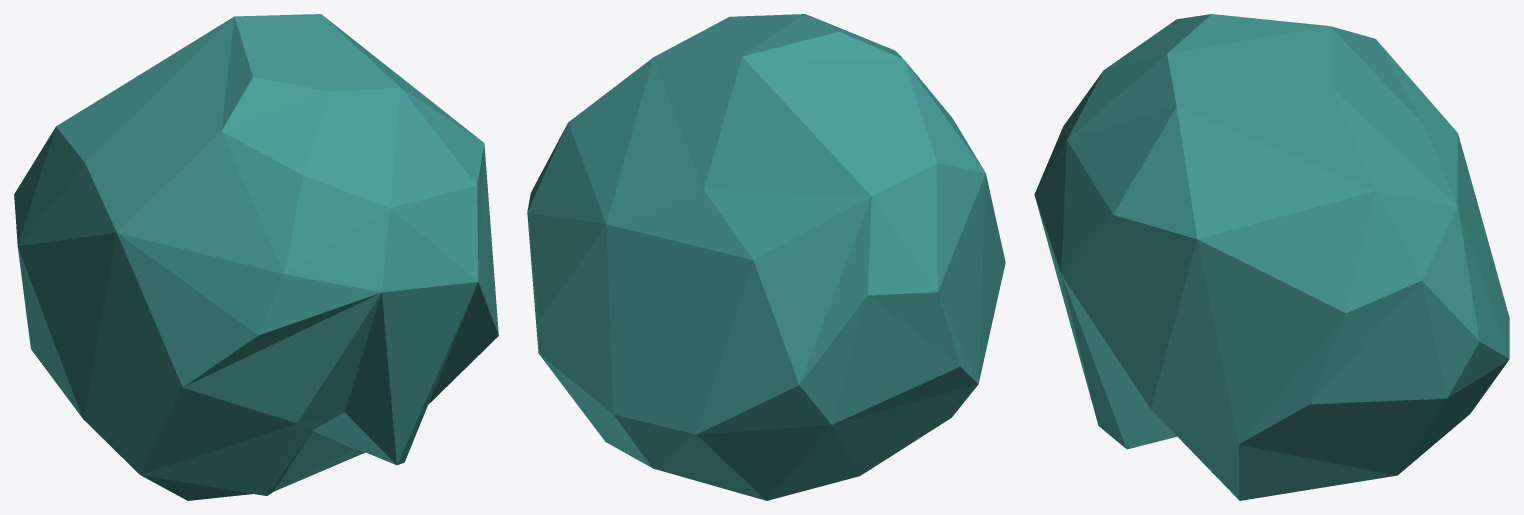
Rendered from Smaller Light Blue White Blood Cell.fbx.
The picture shows the model from 3 angles, left to right: view 1: azimuth 30°, elevation 25°; view 2: azimuth 150°, elevation 25°; view 3: azimuth 270°, elevation 25°; orthographic projection. The views are drawn at different scales.
Visible parts, largest first — view 1: Smaller_light_turquoise_White_Blood_Cell:White_Blood_Cell:Me; view 2: Smaller_light_turquoise_White_Blood_Cell:White_Blood_Cell:Me; view 3: Smaller_light_turquoise_White_Blood_Cell:White_Blood_Cell:Me.
Boxes of the visible parts, x1=… form: Smaller_light_turquoise_White_Blood_Cell:White_Blood_Cell:Me: x1=14, y1=14, x2=498, y2=500; Smaller_light_turquoise_White_Blood_Cell:White_Blood_Cell:Me: x1=527, y1=14, x2=1005, y2=500; Smaller_light_turquoise_White_Blood_Cell:White_Blood_Cell:Me: x1=1034, y1=14, x2=1509, y2=500.
Bounding box in the file's own units: 1.94 × 1.98 × 1.87.
